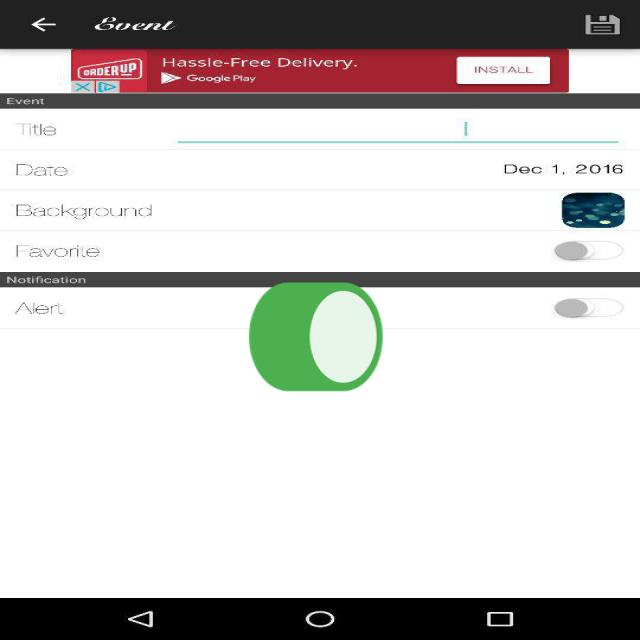social proof: (243, 241, 389, 441)
